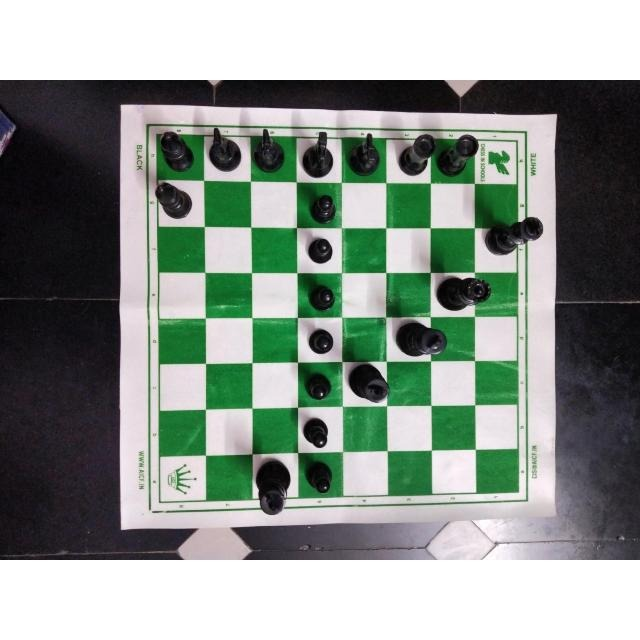black-bishop: (152, 179, 196, 224), (152, 128, 196, 172)
black-king: (391, 320, 451, 364), (482, 218, 544, 258), (255, 455, 291, 516), (347, 363, 395, 407)
black-knight: (346, 131, 385, 183), (206, 126, 245, 178), (301, 128, 337, 179), (254, 127, 288, 174)
black-pawn: (299, 411, 335, 449), (302, 459, 338, 495), (307, 190, 341, 228), (307, 282, 341, 315), (300, 371, 334, 403), (304, 234, 336, 265), (304, 325, 335, 355)
black-queen: (435, 269, 493, 313)
black-rook: (395, 131, 438, 181), (437, 132, 479, 177)
